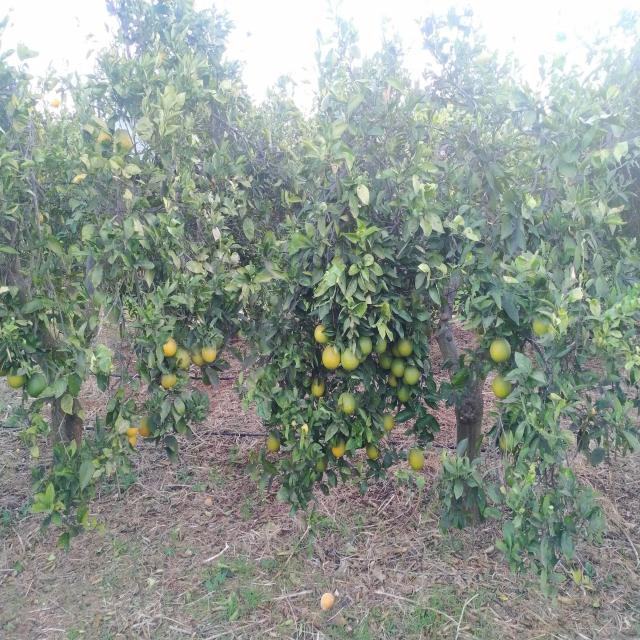Jeruk Belum Matang: (28, 372, 48, 398), (491, 338, 512, 362), (492, 374, 512, 398), (322, 344, 340, 368), (341, 348, 359, 371), (114, 128, 132, 150), (338, 392, 355, 415), (499, 430, 516, 453), (7, 370, 27, 388), (404, 364, 421, 384), (398, 336, 414, 356), (310, 378, 326, 398), (392, 358, 407, 379), (330, 436, 345, 457), (175, 348, 190, 369), (372, 334, 388, 353), (357, 336, 372, 356), (533, 318, 549, 336), (313, 325, 329, 343), (410, 450, 424, 470), (504, 467, 518, 487), (138, 417, 152, 437), (266, 433, 280, 452), (382, 412, 395, 432), (162, 372, 176, 389), (398, 383, 410, 402), (192, 350, 204, 368), (378, 354, 392, 369), (366, 444, 378, 461), (391, 340, 402, 358), (315, 458, 326, 472), (388, 374, 397, 386)
Jeruk Sudah Matang: (162, 338, 178, 356), (202, 344, 217, 363), (126, 426, 138, 436), (130, 434, 137, 448), (51, 97, 60, 107)
